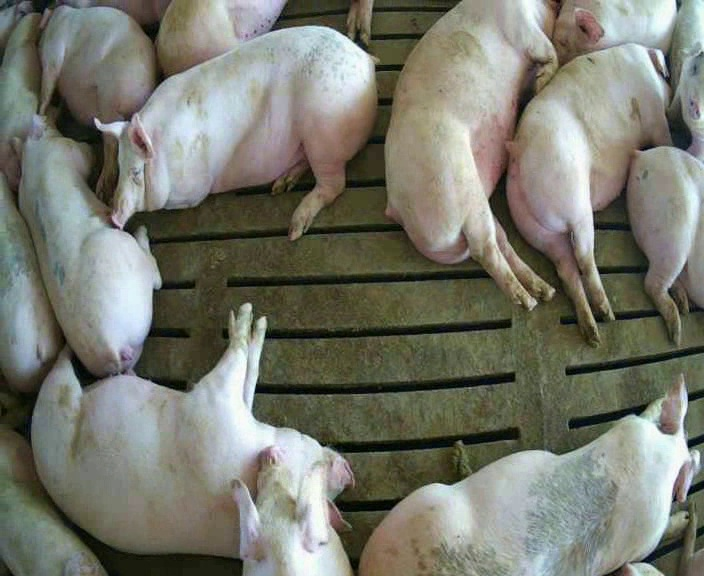pig: (360, 376, 699, 574), (97, 27, 376, 237), (385, 2, 556, 309), (507, 43, 671, 346), (10, 104, 160, 376), (232, 446, 351, 574), (627, 147, 703, 345), (156, 2, 284, 75), (553, 2, 676, 64), (0, 13, 40, 189), (669, 41, 703, 161)
